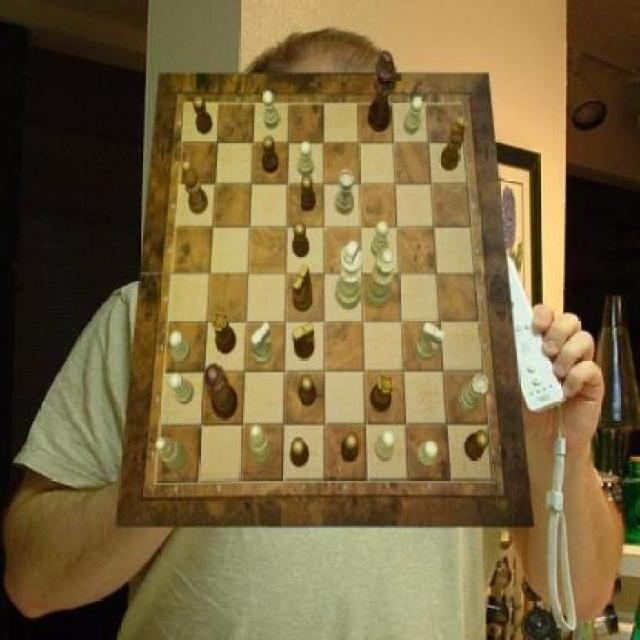bishop: (440, 115, 466, 170), (183, 162, 209, 216)
black-bishop: (369, 51, 397, 133)
black-king: (292, 265, 313, 312), (292, 322, 316, 359)
black-knight: (194, 95, 214, 134), (465, 429, 489, 460), (292, 222, 310, 258), (263, 135, 280, 173), (300, 176, 317, 212), (290, 437, 308, 468), (299, 374, 316, 406), (342, 431, 359, 462)
black-pawn: (204, 364, 238, 420)
black-queen: (212, 312, 236, 355), (371, 374, 394, 412)
black-rook: (157, 437, 189, 471), (249, 424, 273, 464)
white-bishop: (335, 240, 363, 311)
white-king: (416, 323, 446, 362), (251, 322, 273, 366)
white-knight: (169, 370, 194, 404), (170, 330, 192, 364), (376, 429, 396, 462), (263, 91, 280, 129), (405, 97, 422, 135), (415, 440, 438, 468), (371, 222, 388, 259), (297, 142, 314, 176)
white-pawn: (365, 249, 397, 308)
white-queen: (458, 374, 488, 412), (336, 169, 356, 215)
